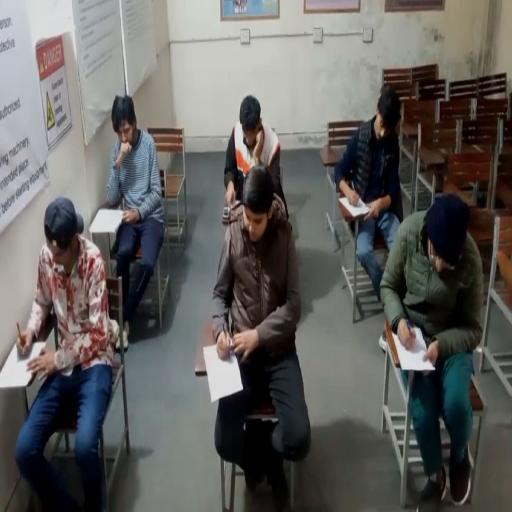paper: (202, 342, 244, 402), (0, 339, 46, 388), (394, 325, 436, 372), (89, 207, 126, 234), (339, 195, 370, 218)
